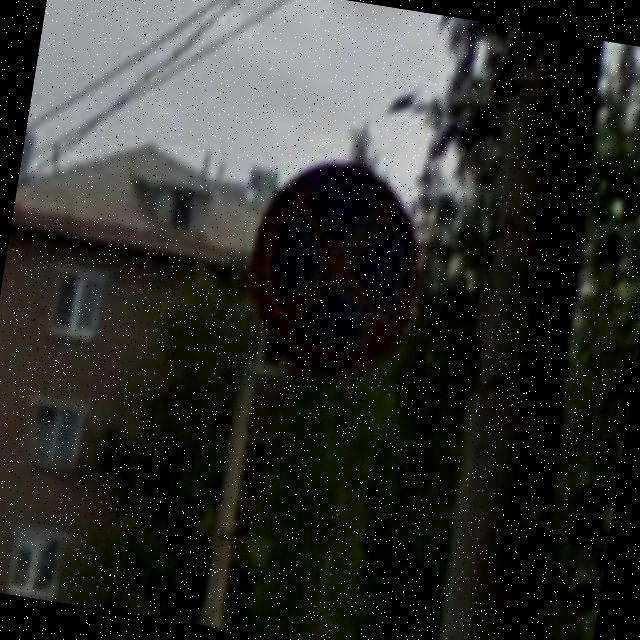Zakaz zatrzymywania sie: (230, 143, 438, 390)
